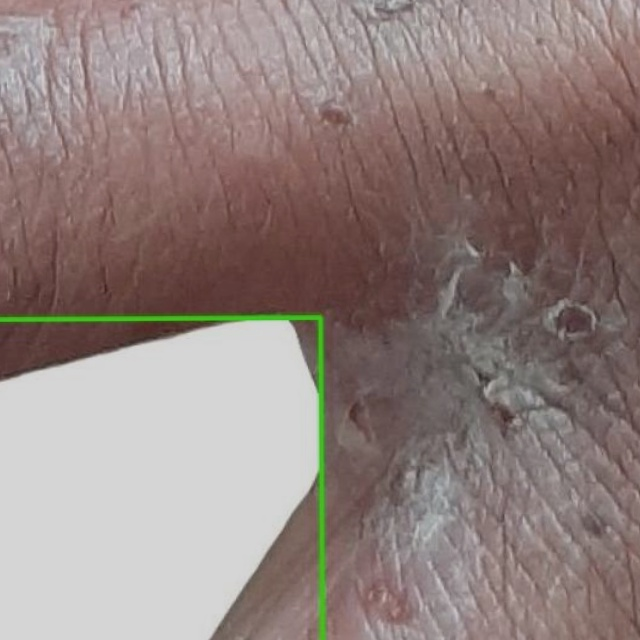Scabies: (0, 317, 322, 639)
